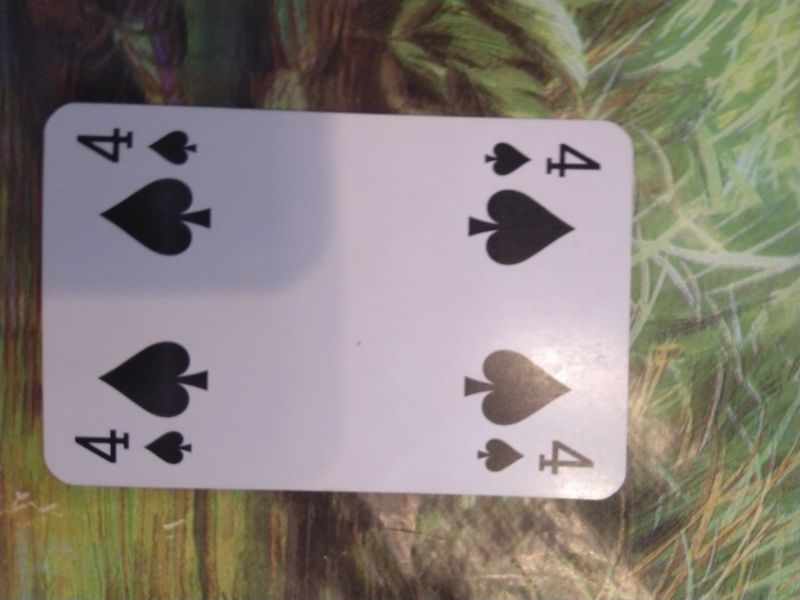4s: (69, 122, 204, 166), (70, 425, 201, 468), (474, 434, 599, 478), (480, 137, 604, 181)
